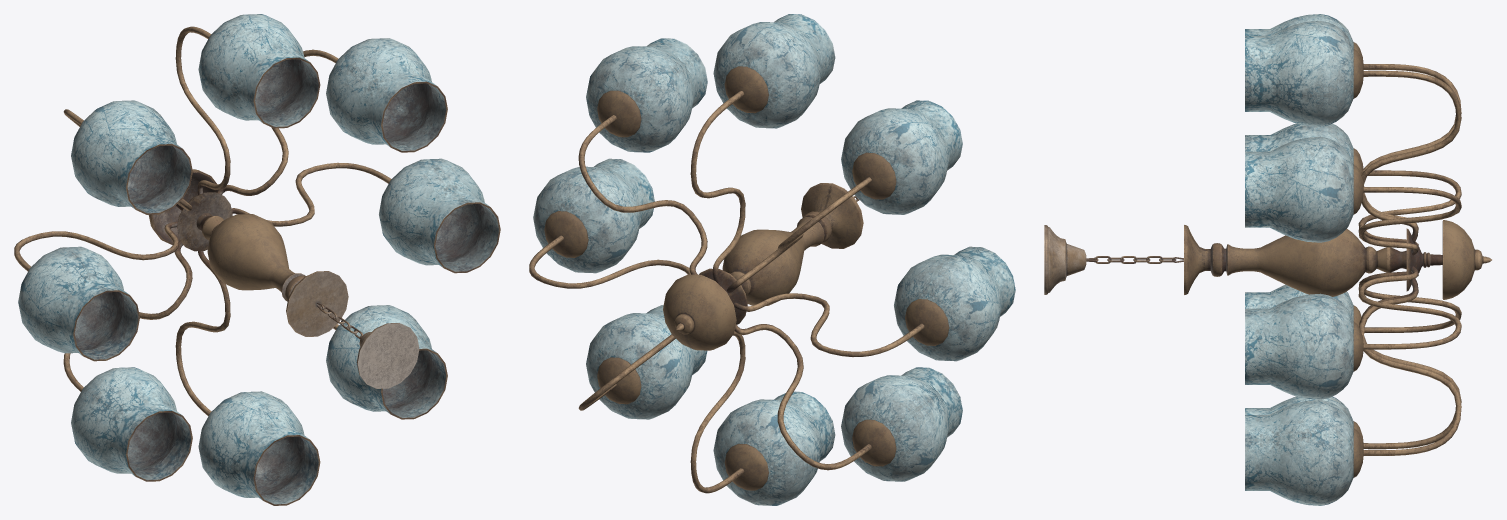
File: SM_Chandelier.fbx
3 renders of one model, left to right at view 1: azimuth 30°, elevation 25°; view 2: azimuth 150°, elevation 25°; view 3: azimuth 270°, elevation 25°, orthographic.
Visible parts, largest first — view 1: SM_Chandelier; view 2: SM_Chandelier; view 3: SM_Chandelier.
Part boxes in pixels (x1,y1,x2,y2): SM_Chandelier: [14, 14, 500, 505]; SM_Chandelier: [529, 14, 1015, 505]; SM_Chandelier: [1044, 14, 1491, 505].
Bounding box in the file's own units: 0.9119 × 0.9119 × 0.7908.
